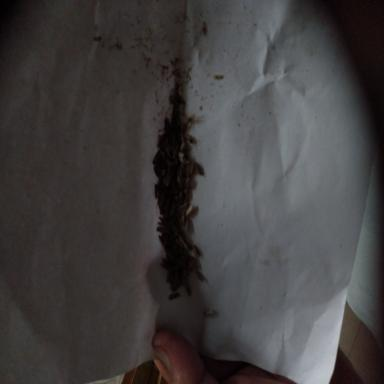pbw: (182, 278, 191, 296), (160, 142, 171, 156), (164, 116, 171, 137), (175, 191, 183, 209), (164, 171, 175, 184), (152, 148, 161, 163), (192, 243, 200, 258), (170, 201, 178, 214), (170, 221, 178, 234), (167, 292, 180, 300), (170, 274, 176, 290), (184, 204, 192, 216), (196, 270, 204, 282), (161, 259, 171, 268), (166, 249, 174, 260), (175, 172, 182, 184), (167, 266, 177, 274), (190, 162, 196, 174), (156, 226, 166, 233), (159, 236, 165, 247), (159, 190, 163, 206), (170, 235, 178, 242), (177, 259, 183, 268), (154, 184, 158, 196), (206, 310, 213, 316), (180, 142, 186, 148), (185, 219, 188, 231)
